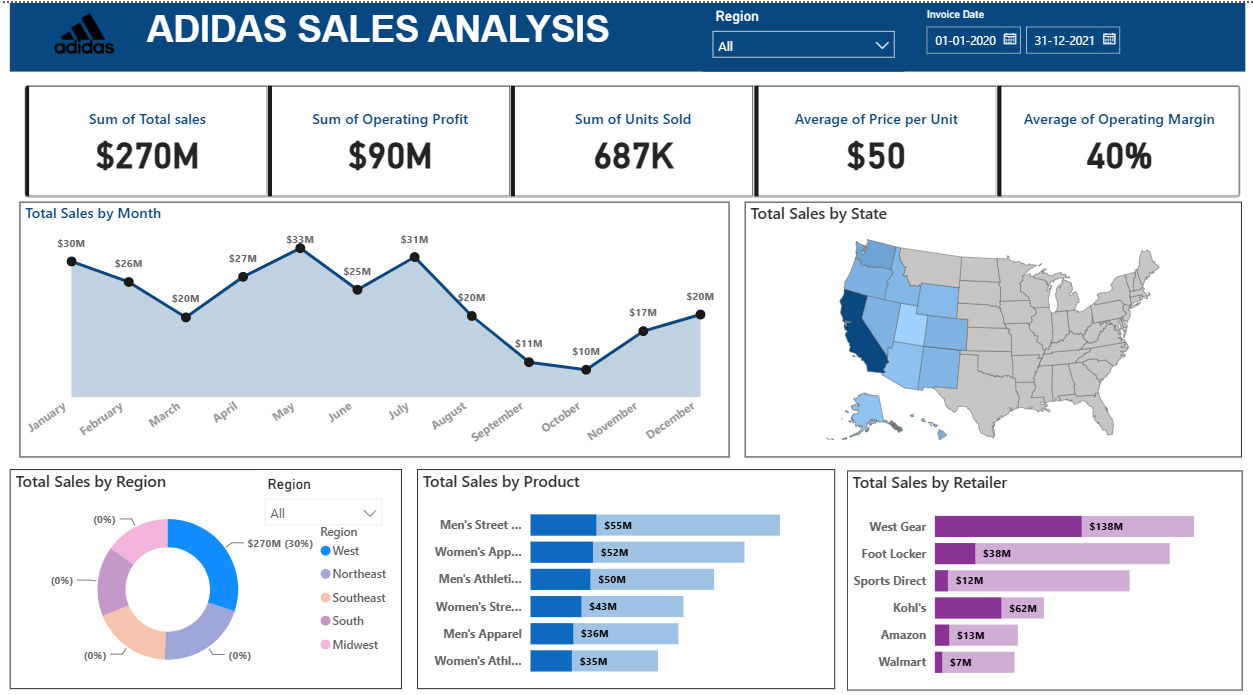

What the dashboard file says about the page in this screenshot:
{"tool":"powerbi","page":{"name":"Page 1","canvas":[1280,720],"ordinal":0},"visuals":[{"type":"cardVisual","title":"Sum of total sa","fields":{"Data":["Sum(Table 1 (Data Sales Adidas).Total Sales)","Sum(Table 1 (Data Sales Adidas).Operating Profit)","Sum(Table 1 (Data Sales Adidas).Units Sold)","Avg(Table 1 (Data Sales Adidas).Price per Unit)","Avg(Table 1 (Data Sales Adidas).Operating Margin)"]},"box":[19.8,77.9,1255.8,125.6],"z":0},{"type":"areaChart","fields":{"Category":["Table 1 (Data Sales Adidas).Invoice Date.Variation.Date Hierarchy.Month"],"Y":["Sum(Table 1 (Data Sales Adidas).Total Sales)"]},"box":[19.8,203.5,724.4,260.5],"z":1000},{"type":"shapeMap","title":"Total Sales by State","fields":{"Category":["Table 1 (Data Sales Adidas).State"],"Value":["Sum(Table 1 (Data Sales Adidas).Total Sales)"]},"box":[760.5,203.5,507,260.5],"z":2000},{"type":"donutChart","fields":{"Category":["Table 1 (Data Sales Adidas).Region"],"Y":["Sum(Table 1 (Data Sales Adidas).Total Sales)"]},"box":[10.5,475.6,400,224.4],"z":3000},{"type":"barChart","fields":{"Category":["Table 1 (Data Sales Adidas).Product"],"Y":["Sum(Table 1 (Data Sales Adidas).Total Sales)"]},"box":[425.6,475.6,426.7,224.4],"z":4000},{"type":"barChart","title":"   Total Sales by Retailer","fields":{"Y":["Sum(Table 1 (Data Sales Adidas).Total Sales)"],"Category":["Table 1 (Data Sales Adidas).Retailer"]},"box":[864,476.7,403.5,224.4],"z":5000},{"type":"slicer","fields":{"Values":["Table 1 (Data Sales Adidas).Region"]},"box":[519.7,204.2,299.6,64.8],"z":6000},{"type":"image","box":[33,12.2,106.4,45.2],"z":7000},{"type":"slicer","fields":{"Values":["Table 1 (Data Sales Adidas).Region"]},"box":[796.1,4.9,193.2,59.9],"z":8000},{"type":"slicer","fields":{"Values":["Table 1 (Data Sales Adidas).Invoice Date"]},"box":[1000.3,4.9,256.8,59.9],"z":9000},{"type":"textbox","box":[9.8,0,1260.7,69.7],"z":10000},{"type":"image","box":[33,4.9,106.4,52.6],"z":10001},{"type":"slicer","fields":{"Values":["Table 1 (Data Sales Adidas).Region"]},"box":[716.6,0,205.4,69.7],"z":10002},{"type":"slicer","fields":{"Values":["Table 1 (Data Sales Adidas).Invoice Date"]},"box":[933,0,223.8,64.8],"z":10003}]}

Visuals, with their boxes in screenshot pixels (x1, y1, x2, y2), scaled from the page's 1280x720 canvas onto the 1253x695 screenshot:
"Sum of total sa" cardVisual: locate(19, 75, 1249, 196)
areaChart - Table 1 (Data Sales Adidas).Invoice Date.Variation.Date Hierarchy.Month x Sum(Table 1 (Data Sales Adidas).Total Sales): locate(19, 196, 729, 448)
"Total Sales by State" shapeMap: locate(744, 196, 1241, 448)
donutChart - Table 1 (Data Sales Adidas).Region x Sum(Table 1 (Data Sales Adidas).Total Sales): locate(10, 459, 402, 676)
barChart - Table 1 (Data Sales Adidas).Product x Sum(Table 1 (Data Sales Adidas).Total Sales): locate(417, 459, 834, 676)
"   Total Sales by Retailer" barChart: locate(846, 460, 1241, 677)
slicer - Table 1 (Data Sales Adidas).Region: locate(509, 197, 802, 260)
image: locate(32, 12, 136, 55)
slicer - Table 1 (Data Sales Adidas).Region: locate(779, 5, 968, 63)
slicer - Table 1 (Data Sales Adidas).Invoice Date: locate(979, 5, 1231, 63)
textbox: locate(10, 0, 1244, 67)
image: locate(32, 5, 136, 56)
slicer - Table 1 (Data Sales Adidas).Region: locate(701, 0, 903, 67)
slicer - Table 1 (Data Sales Adidas).Invoice Date: locate(913, 0, 1132, 63)
